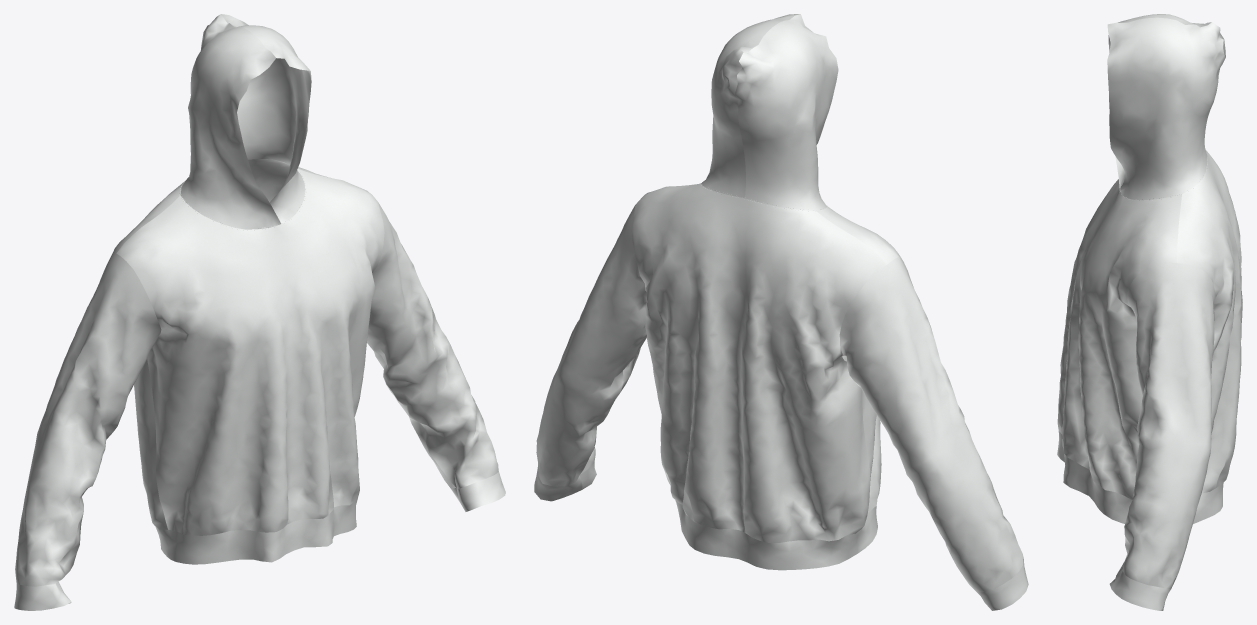
The model's file is hoodie.glb.
The picture shows the model from 3 angles, left to right: view 1: azimuth 30°, elevation 25°; view 2: azimuth 150°, elevation 25°; view 3: azimuth 270°, elevation 25°; orthographic projection. The views are drawn at different scales.
Parts seen in each view (by area): view 1: FRONT, ARM_L, HEM_R_1, HOOD_L, HOOD_R, HEM_BTTM, BACK, HEM_L, HEM_R; view 2: BACK, ARM_L, HOOD_L, HEM_R_1, HEM_BTTM, HOOD_R, FRONT, HEM_L, HEM_R; view 3: HEM_R_1, FRONT, HOOD_R, BACK, HEM_BTTM, HEM_R, HOOD_L.
Part boxes in pixels (x1,y1,x2,y2): FRONT: [116, 169, 384, 535]; ARM_L: [15, 252, 161, 586]; HEM_R_1: [367, 202, 498, 488]; HOOD_L: [180, 14, 281, 229]; HOOD_R: [221, 14, 311, 223]; HEM_BTTM: [155, 500, 357, 564]; BACK: [112, 159, 330, 529]; HEM_L: [14, 582, 71, 610]; HEM_R: [451, 471, 505, 511]; BACK: [631, 183, 885, 542]; ARM_L: [839, 257, 1023, 592]; HOOD_L: [735, 14, 838, 210]; HEM_R_1: [536, 205, 647, 486]; HEM_BTTM: [675, 500, 877, 570]; HOOD_R: [701, 14, 799, 198]; FRONT: [636, 184, 902, 514]; HEM_L: [975, 560, 1028, 610]; HEM_R: [534, 463, 596, 501]; HEM_R_1: [1122, 262, 1215, 589]; FRONT: [1057, 179, 1181, 499]; HOOD_R: [1107, 17, 1225, 200]; BACK: [1177, 149, 1242, 493]; HEM_BTTM: [1057, 431, 1223, 523]; HEM_R: [1109, 565, 1170, 610]; HOOD_L: [1108, 14, 1225, 190].
Bounding box in the file's own units: 0.8853 × 0.9202 × 0.3158.
3 materials, 2 textured.
